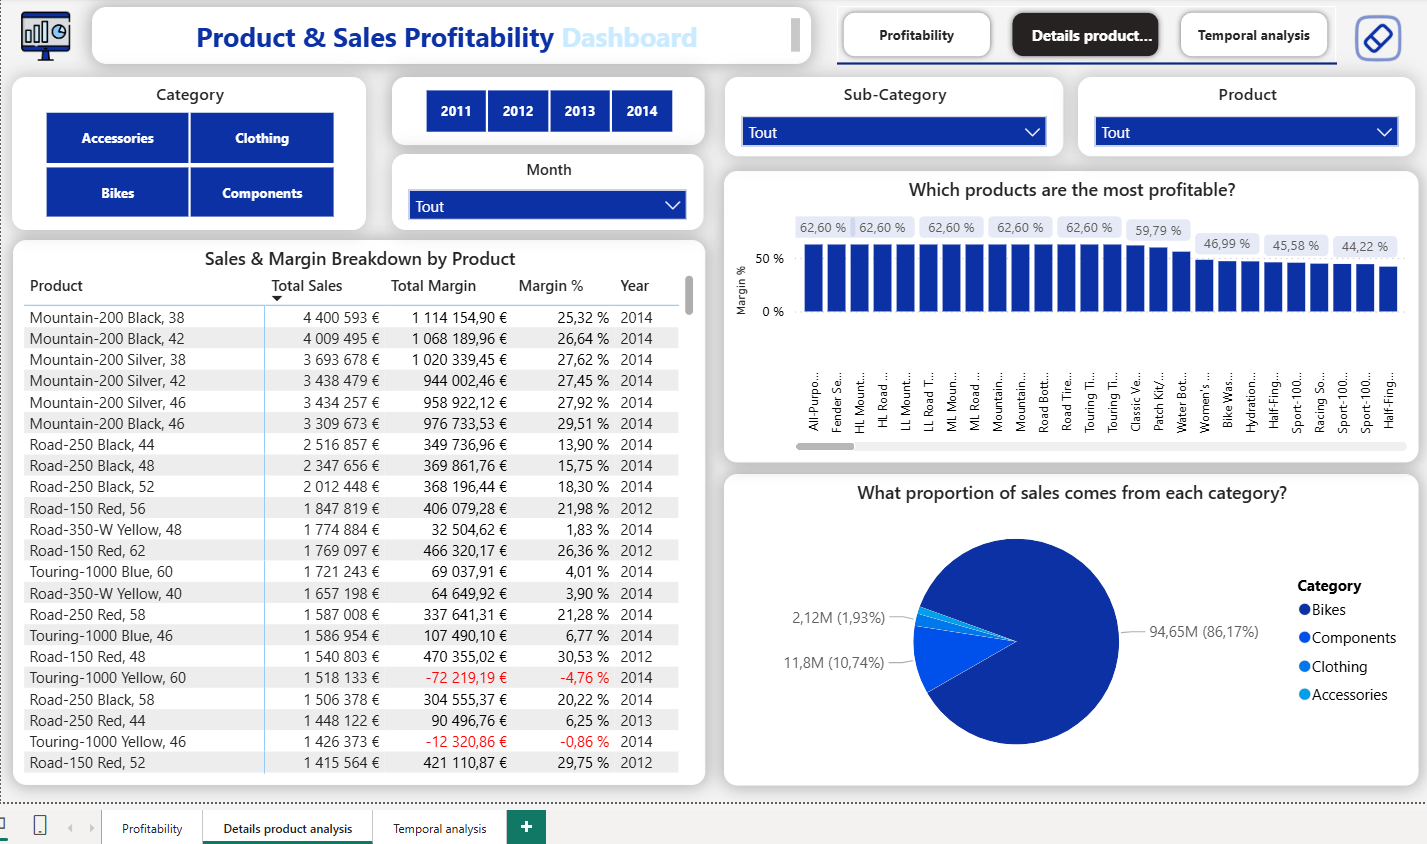

What the dashboard file says about the page in this screenshot:
{"tool":"powerbi","page":{"name":"Details product analysis","canvas":[1280,720],"ordinal":1},"visuals":[{"type":"pivotTable","title":"Sales & Margin Breakdown by Product","fields":{"Values":["ProductProfitability.Total Sales","ProductProfitability.Total Margin","ProductProfitability.Margin %","Max(ProductProfitability.Year)"],"Rows":["ProductProfitability.ProductName"]},"box":[10.7,216.9,619.6,488.3],"z":0},{"type":"pieChart","title":"What proportion of sales comes from each category?","fields":{"Y":["ProductProfitability.Total Sales"],"Category":["ProductProfitability.Category","ProductProfitability.SubCategory"]},"box":[647.8,426,621.5,279.1],"z":1000},{"type":"clusteredColumnChart","title":"Which products are the most profitable?","fields":{"Category":["ProductProfitability.ProductName"],"Y":["ProductProfitability.Margin %"]},"box":[647.8,154.7,621.5,260.7],"z":2000},{"type":"textbox","box":[81.5,8.1,643.9,51],"z":3000},{"type":"pageNavigator","box":[749.1,6.9,447.1,51.3],"z":4000},{"type":"shape","box":[748.7,46.6,447.8,24.2],"z":5000},{"type":"image","box":[0,6.9,80.9,54.3],"z":6000},{"type":"image","box":[1188.2,7.9,90.8,56.3],"z":7000},{"type":"slicer","title":"Category","fields":{"Values":["ProductProfitability.Category"]},"box":[10.3,70.9,317,137],"z":8000},{"type":"slicer","fields":{"Values":["ProductProfitability.OrderDate.Variation.Hiérarchie de dates.Année"]},"box":[350.5,70.9,279.7,60.6],"z":9000},{"type":"slicer","title":"Sub-Category","fields":{"Values":["ProductProfitability.SubCategory"]},"box":[647.9,70.9,303,70.9],"z":10000},{"type":"slicer","title":"Product","fields":{"Values":["ProductProfitability.ProductName"]},"box":[964.9,70.9,302,70.9],"z":11000},{"type":"slicer","title":"Month","fields":{"Values":["ProductProfitability.OrderDate.Variation.Hiérarchie de dates.Mois"]},"box":[350.5,139.8,279,68],"z":11001}]}

Visuals, with their boxes on the page's 1280x720 design canvas (x1, y1, x2, y2). These are canvas units, not pixel positions in the 1427x844 screenshot, which may show the page scaled, cropped or inside an application window:
"Sales & Margin Breakdown by Product" pivotTable: <bbox>11, 217, 630, 705</bbox>
"What proportion of sales comes from each category?" pieChart: <bbox>648, 426, 1269, 705</bbox>
"Which products are the most profitable?" clusteredColumnChart: <bbox>648, 155, 1269, 415</bbox>
textbox: <bbox>82, 8, 725, 59</bbox>
pageNavigator: <bbox>749, 7, 1196, 58</bbox>
shape: <bbox>749, 47, 1196, 71</bbox>
image: <bbox>0, 7, 81, 61</bbox>
image: <bbox>1188, 8, 1279, 64</bbox>
"Category" slicer: <bbox>10, 71, 327, 208</bbox>
slicer - ProductProfitability.OrderDate.Variation.Hiérarchie de dates.Année: <bbox>350, 71, 630, 132</bbox>
"Sub-Category" slicer: <bbox>648, 71, 951, 142</bbox>
"Product" slicer: <bbox>965, 71, 1267, 142</bbox>
"Month" slicer: <bbox>350, 140, 630, 208</bbox>
